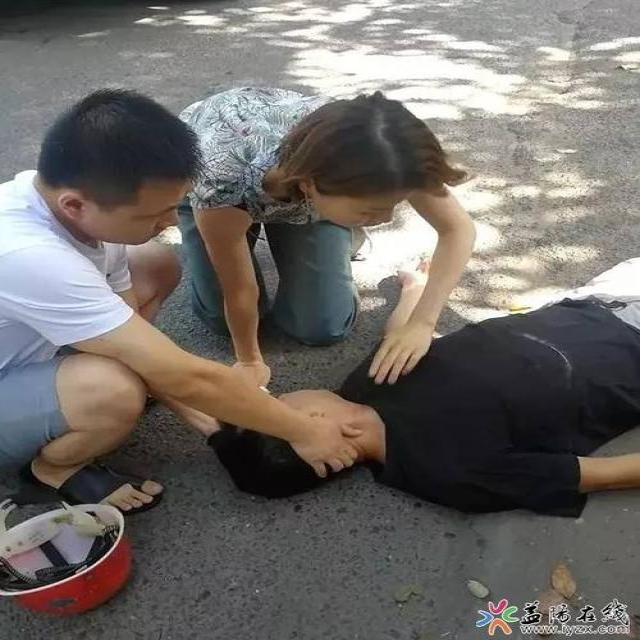fall: (232, 291, 635, 510)
